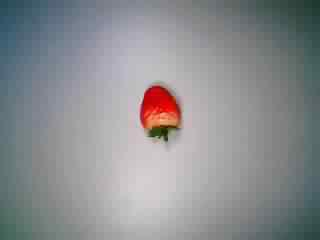strawberry: (126, 80, 191, 147)
